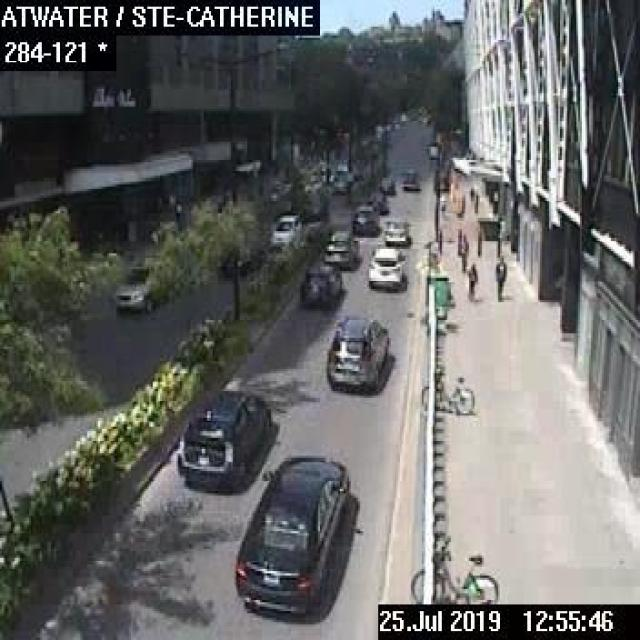pedestrian: (491, 253, 505, 300), (464, 260, 476, 300), (458, 233, 468, 269), (469, 186, 473, 203)
vehicle: (235, 455, 351, 618), (176, 390, 270, 487), (324, 314, 389, 394), (114, 264, 154, 313), (298, 262, 340, 308), (366, 246, 404, 290), (322, 228, 357, 268), (270, 212, 300, 245), (350, 204, 378, 234), (383, 217, 407, 245), (401, 167, 418, 191), (368, 191, 386, 212), (376, 174, 394, 193)
